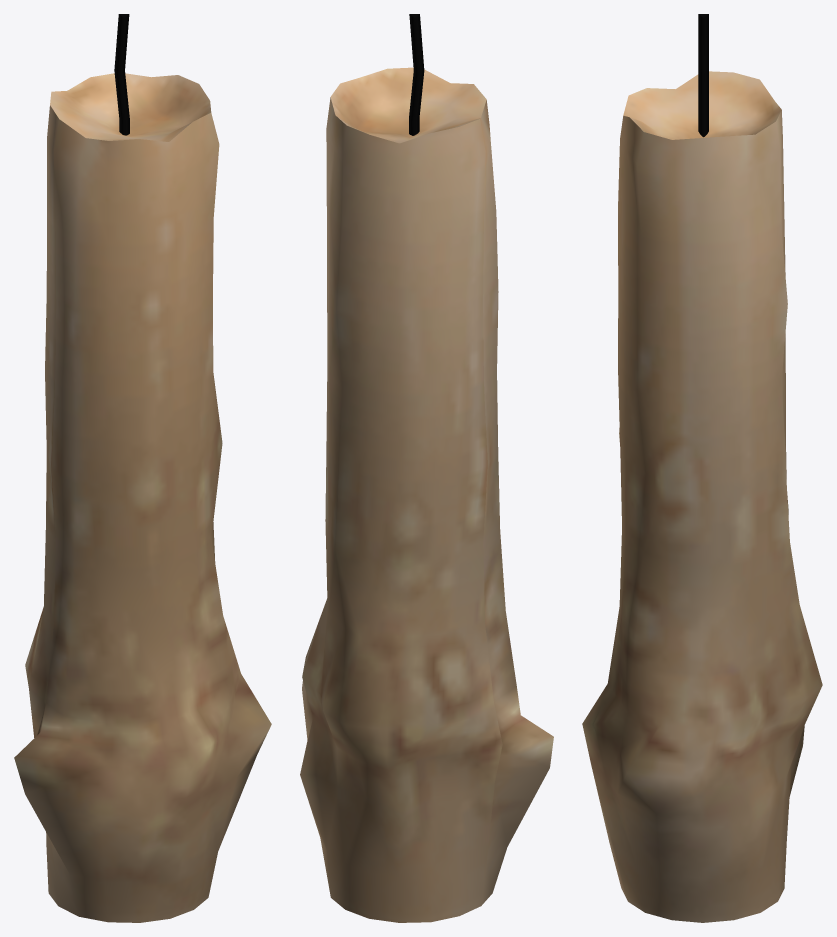
File: candle02.fbx
3 renders of one model, left to right at view 1: azimuth 30°, elevation 25°; view 2: azimuth 150°, elevation 25°; view 3: azimuth 270°, elevation 25°, orthographic.
Visible parts, largest first — view 1: candle02; view 2: candle02; view 3: candle02.
Boxes of the visible parts, box(x1,y1,x2,y2) form: candle02: box(14, 14, 271, 922); candle02: box(300, 14, 553, 922); candle02: box(582, 14, 822, 922).
Bounding box in the file's own units: 7.42 × 25.24 × 6.32.
